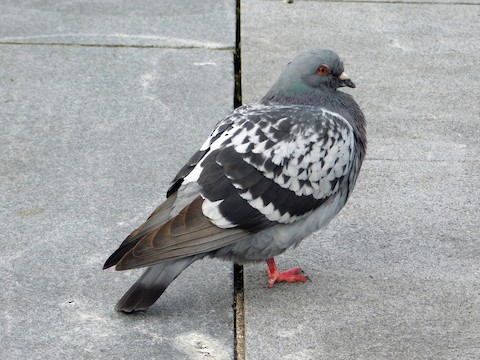pigeon: (107, 45, 369, 320)
